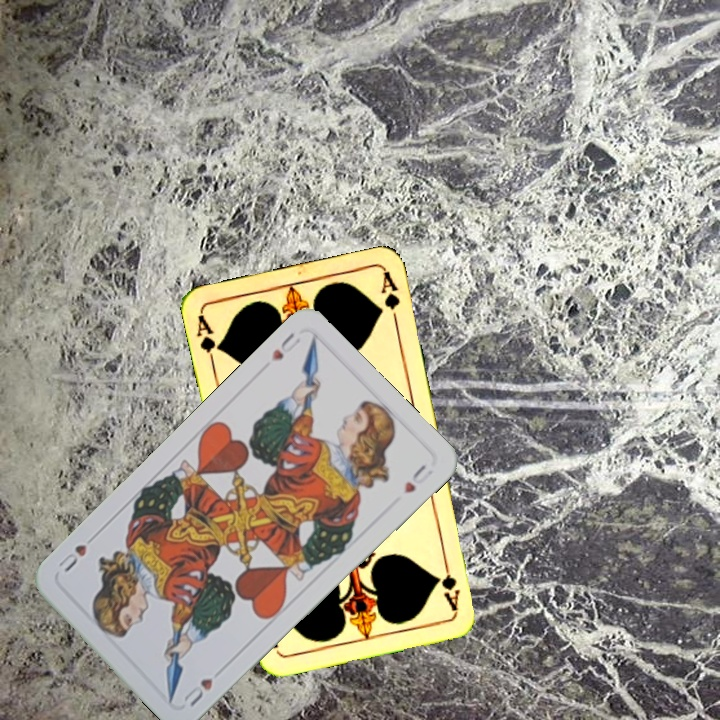GA: (193, 310, 225, 369), (437, 554, 463, 613)
HU: (267, 328, 303, 364), (179, 674, 216, 709)
